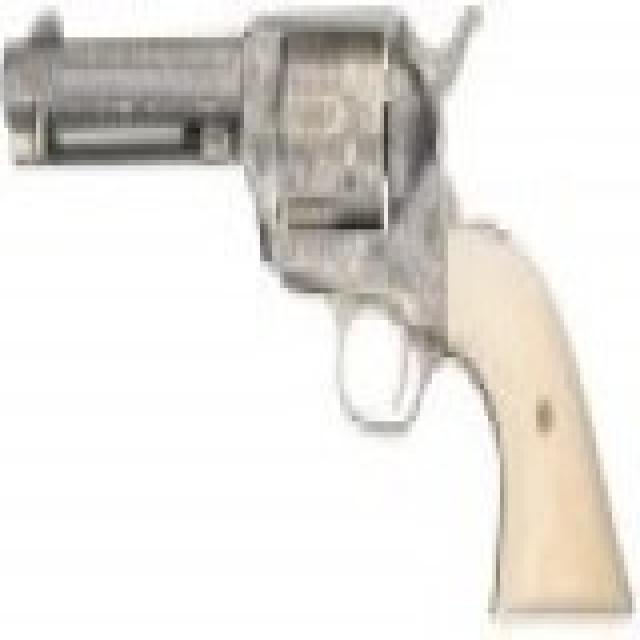Gun: (6, 11, 629, 608)
